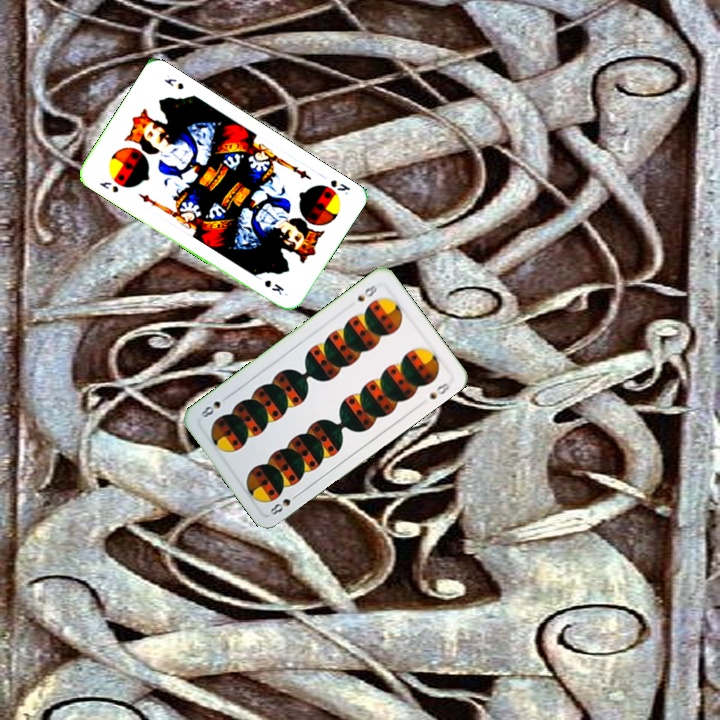S8: (266, 489, 302, 518), (353, 281, 380, 304)
SK: (326, 176, 353, 197), (95, 177, 121, 195)
